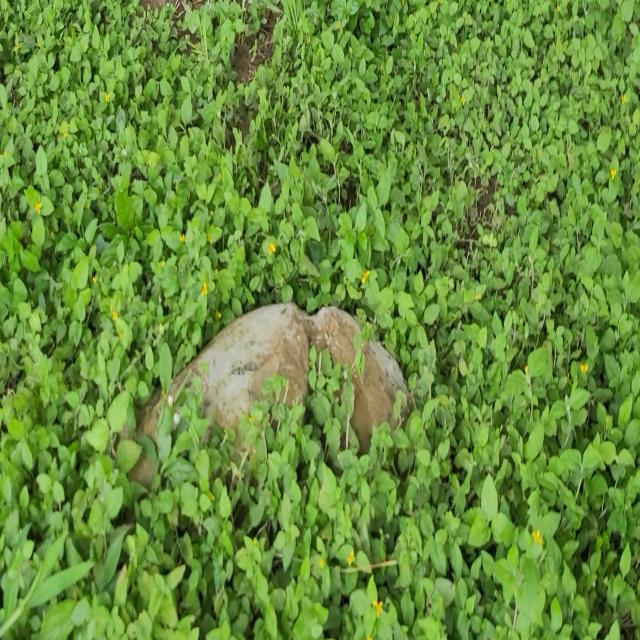grass: (0, 0, 640, 639)
stone: (128, 302, 412, 487)
